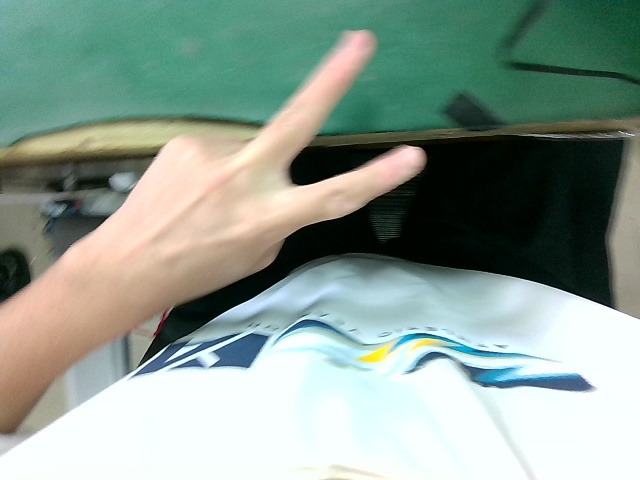scissor: (109, 20, 447, 308)
